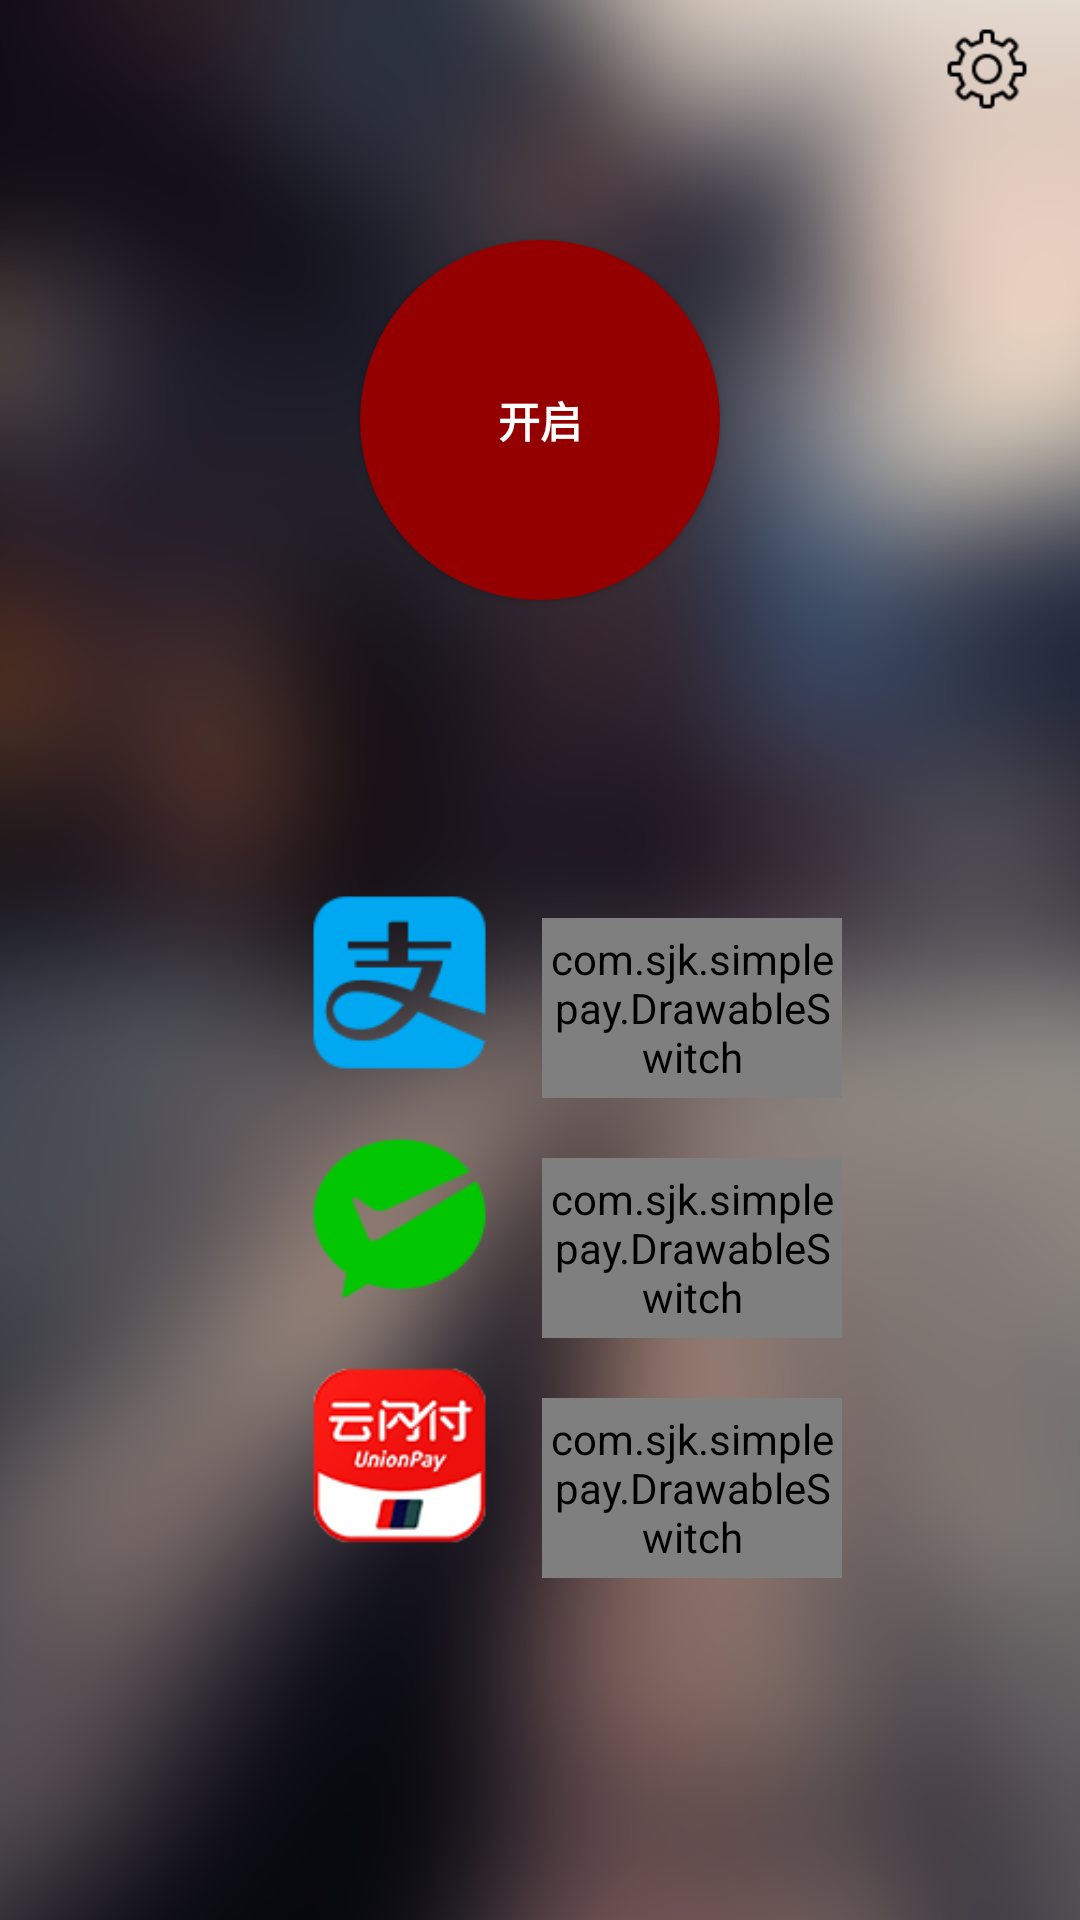

Screen size 1080 x 1920. Icon name, then its box in pixels as BBox(x1, y1, x2, y2):
setting: BBox(942, 29, 1032, 114)
